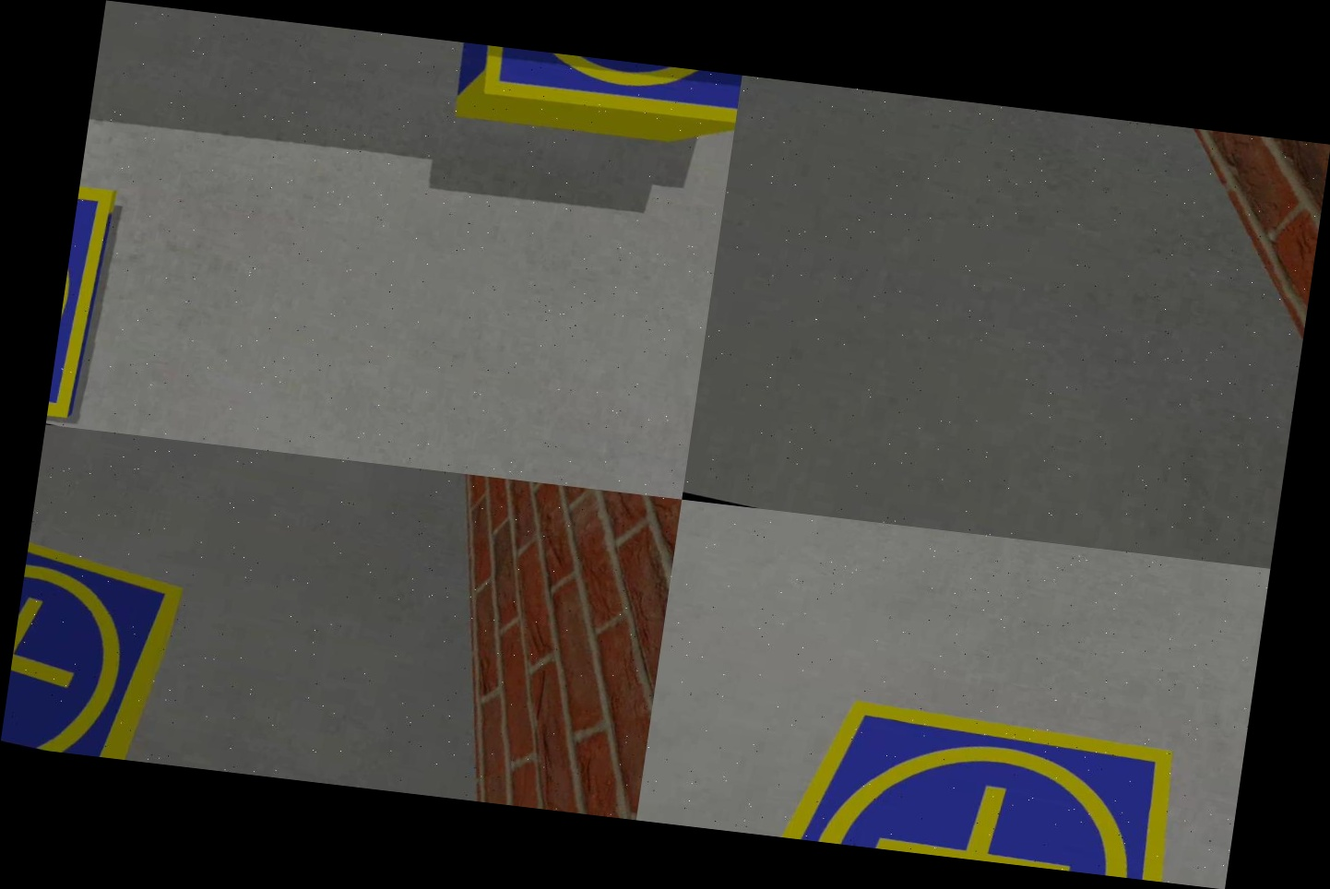small_base: (707, 657, 1236, 887), (0, 520, 196, 764), (444, 41, 742, 148), (45, 160, 145, 432)
